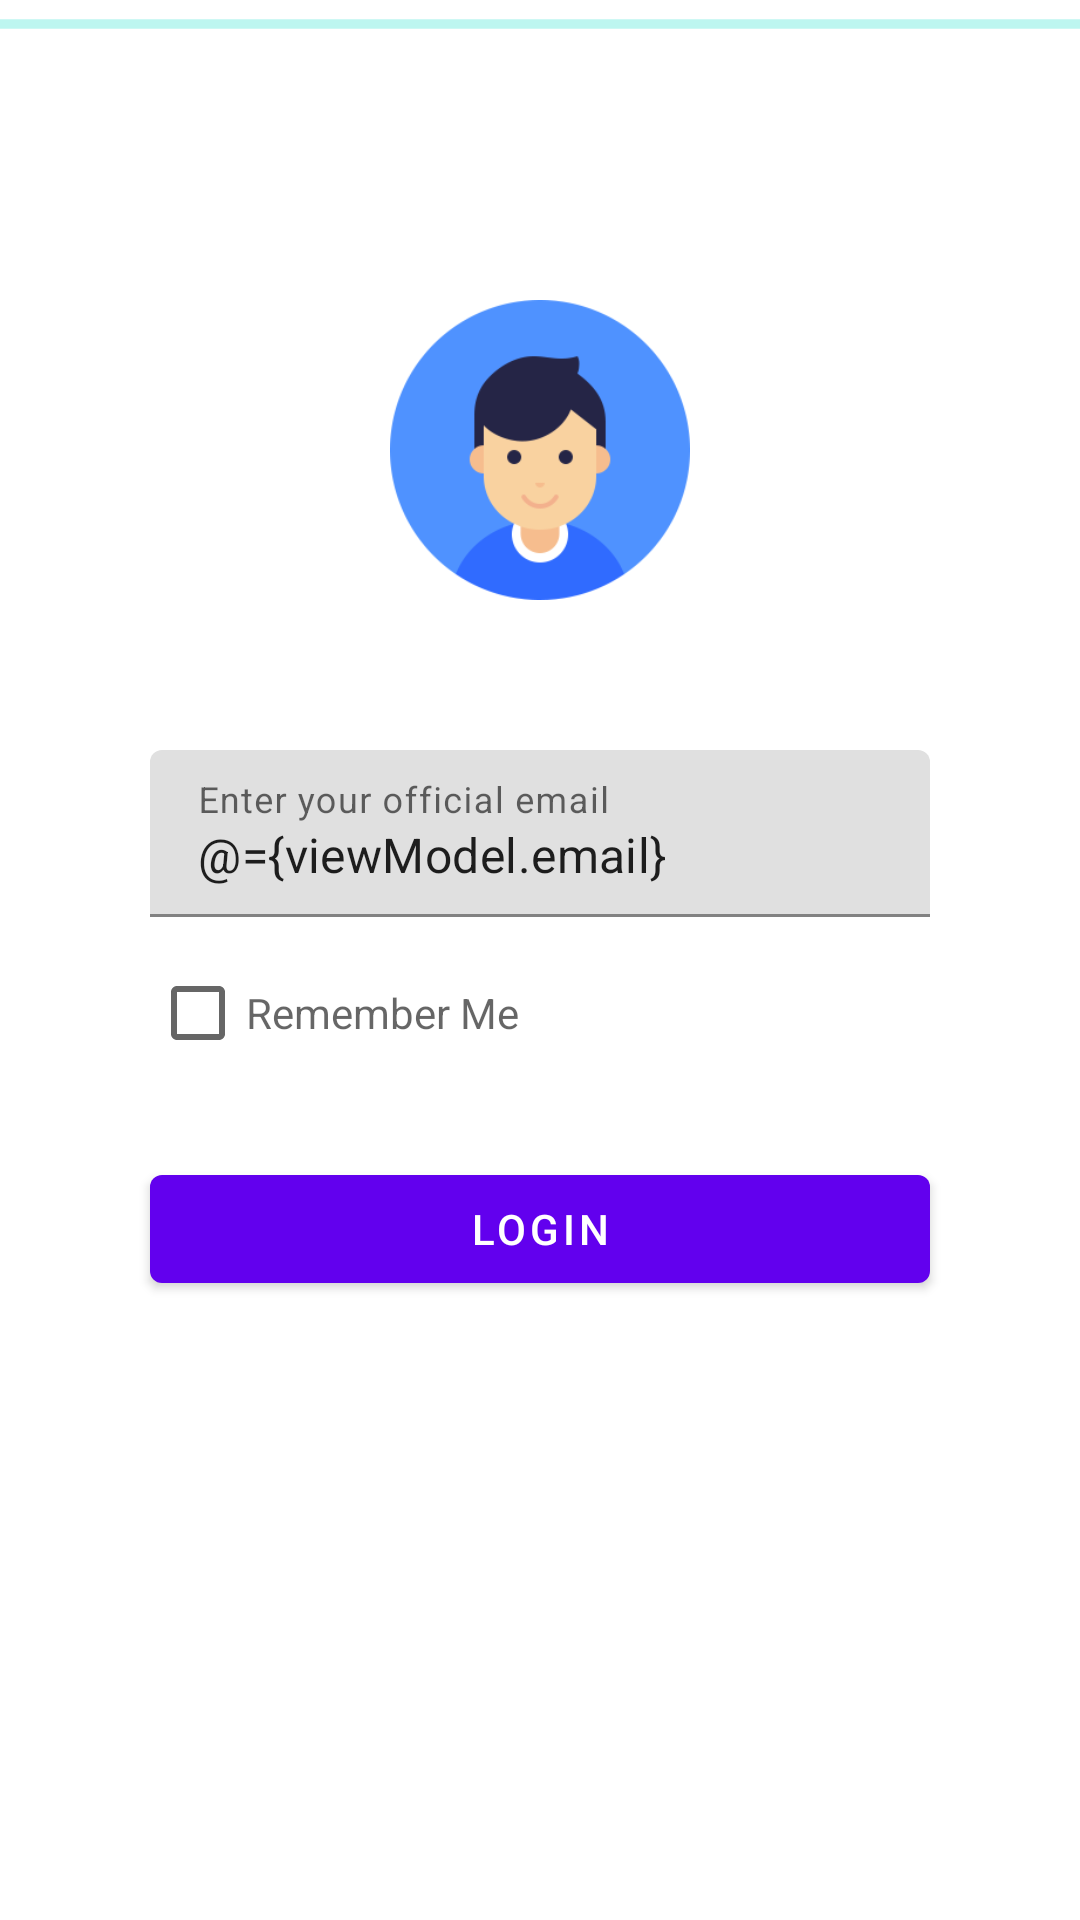

Where to tap for icons on this 1080px×1920px app screen, as point (x, y):
user: point (540, 450)
